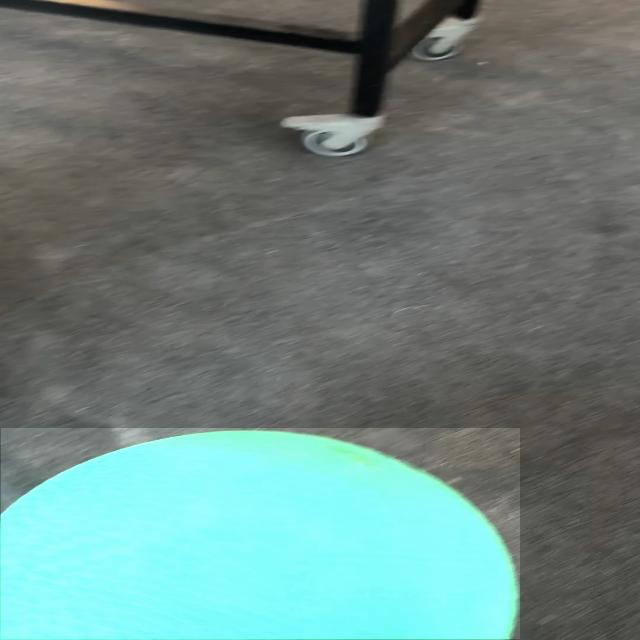Algae: (1, 428, 520, 639)
